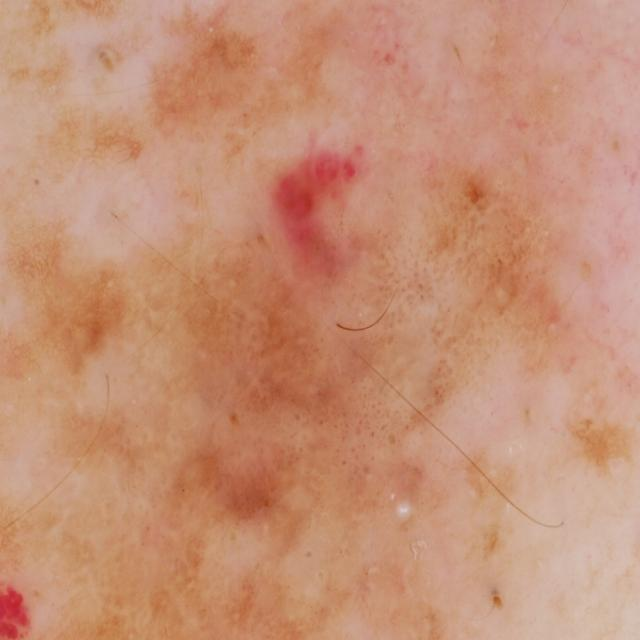Melanoma: (27, 40, 440, 357), (0, 452, 259, 640), (350, 422, 469, 621)
